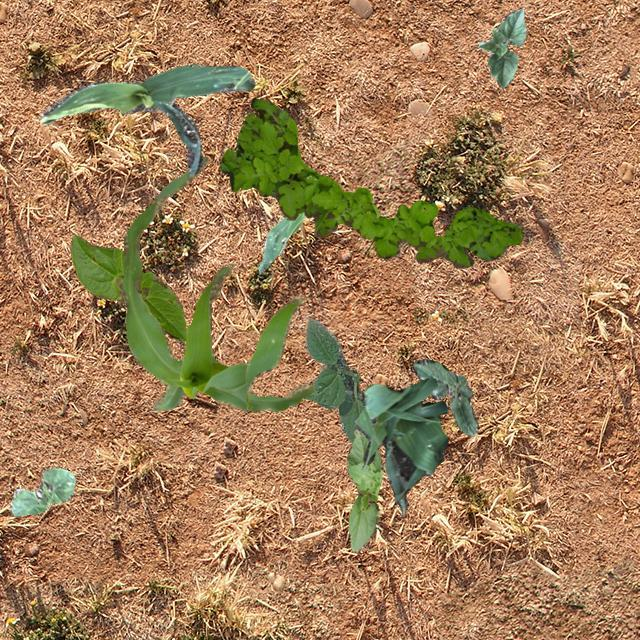crop: (120, 156, 314, 412), (38, 64, 254, 175), (352, 376, 448, 514), (70, 234, 186, 340), (302, 316, 364, 442), (412, 358, 478, 434), (346, 428, 382, 550), (476, 8, 524, 86), (8, 468, 74, 516), (258, 210, 304, 274)
weed: (218, 98, 522, 266)
